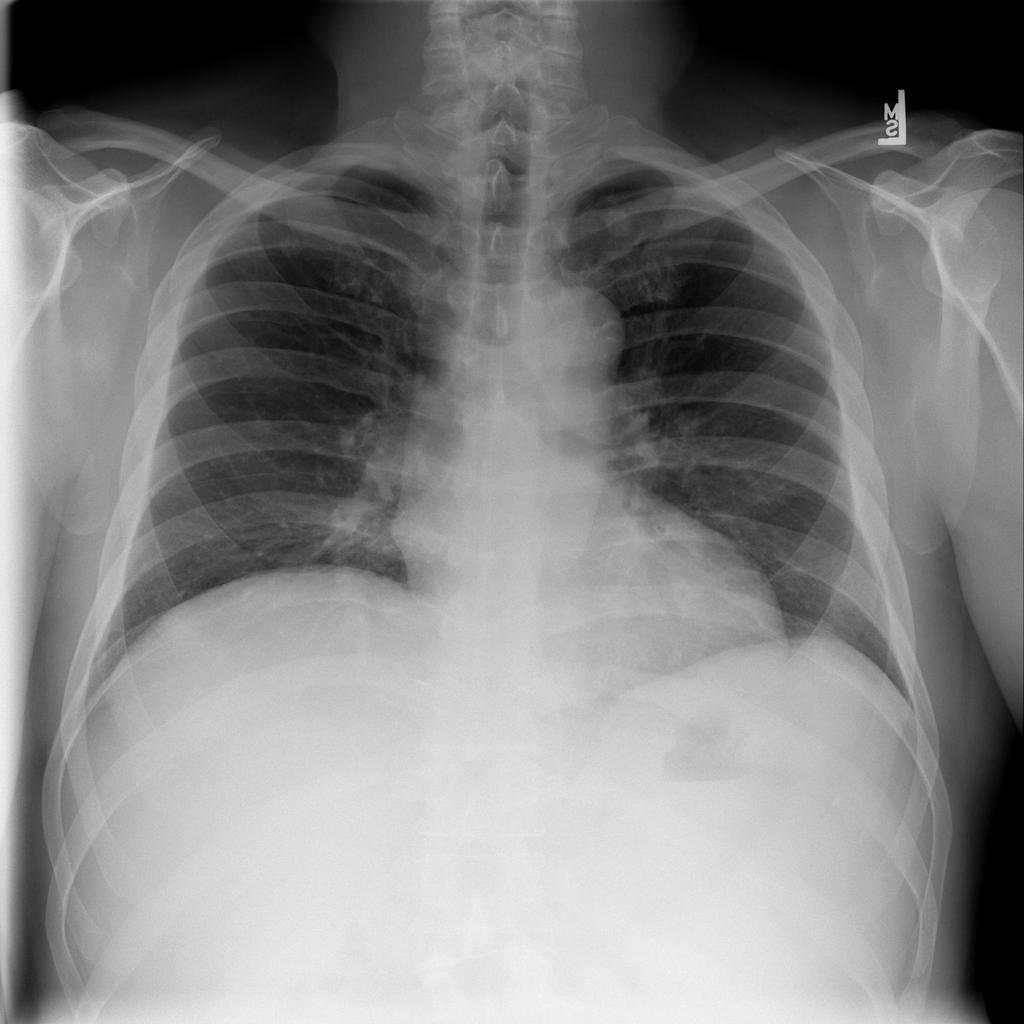nodule: (585, 184, 659, 251), (256, 211, 333, 274), (233, 400, 287, 446)
